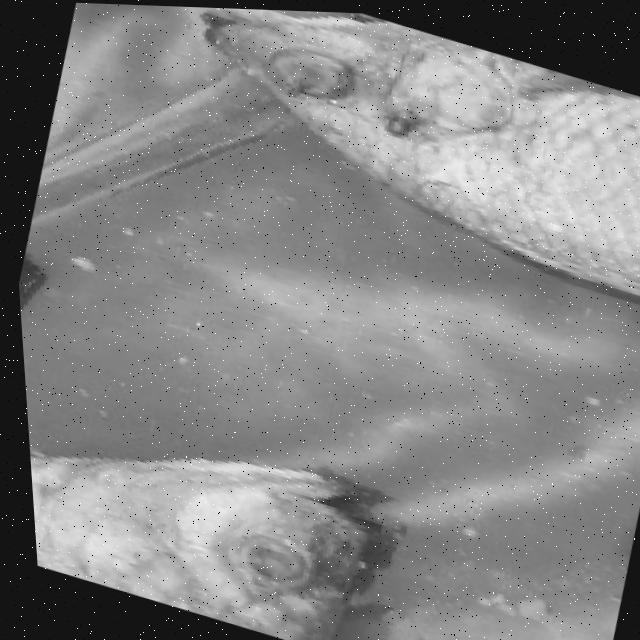Non-Fresh: (158, 5, 640, 342), (21, 397, 419, 640)
